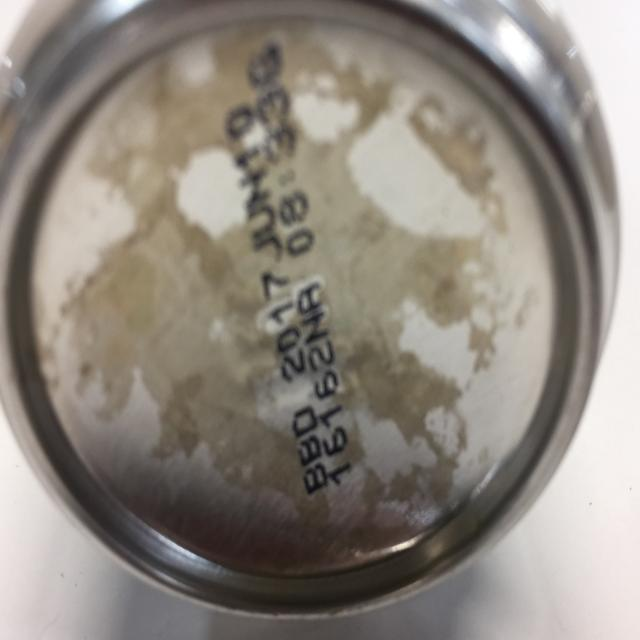metal: (0, 0, 622, 621)
